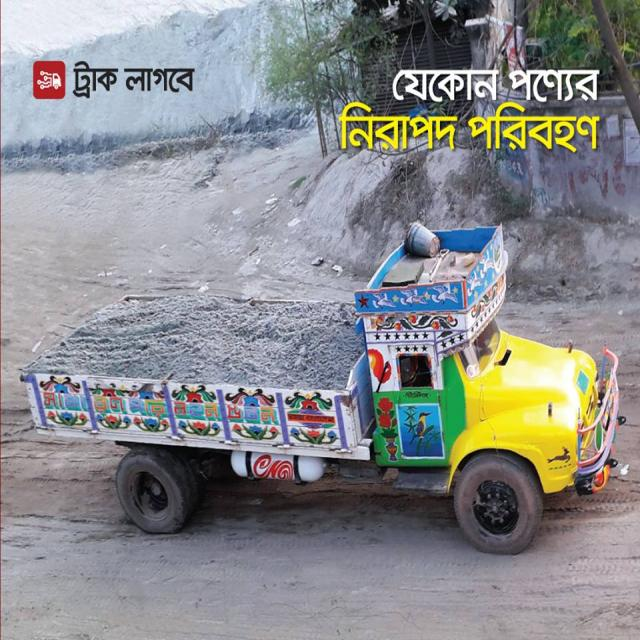truck: (0, 210, 637, 562)
